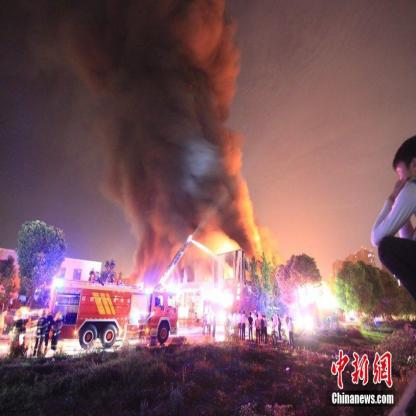other: (151, 270, 237, 343), (288, 276, 342, 340), (58, 329, 86, 355), (49, 274, 72, 294)
smoke: (78, 4, 244, 212)
